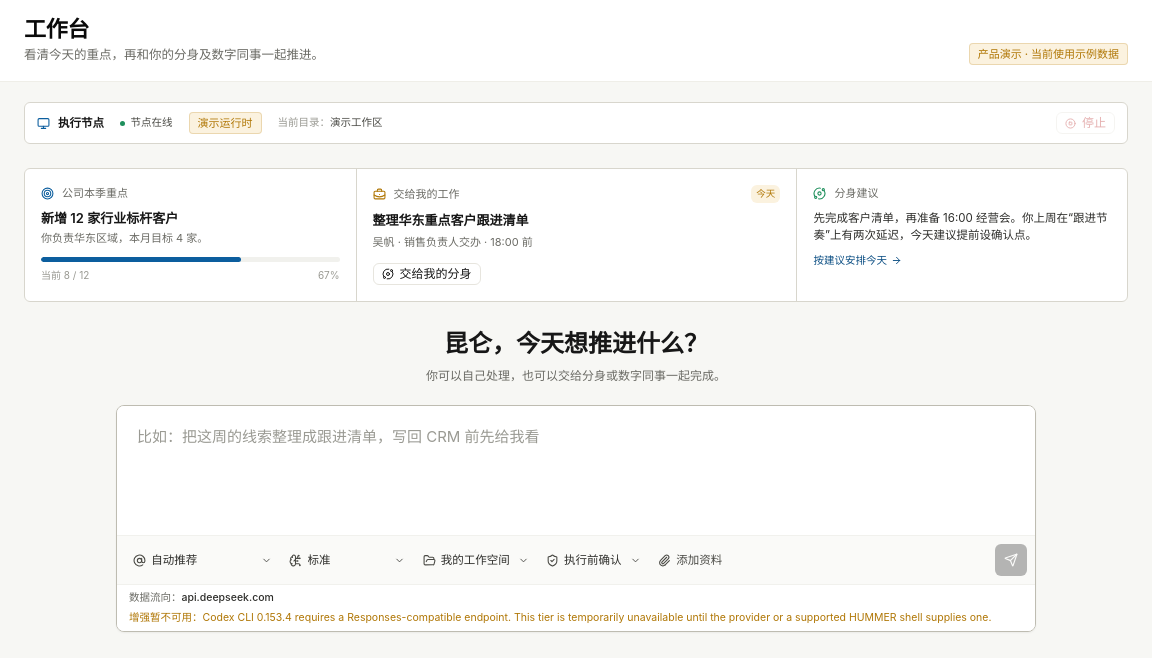
Test: WorkbenchPage V5 › marks an offline plan as demonstration output and never records a planning cost
Type "断网时起草一份合同审查计划" into the text box named "任务描述" at [576, 468], box [117, 406, 1035, 530]
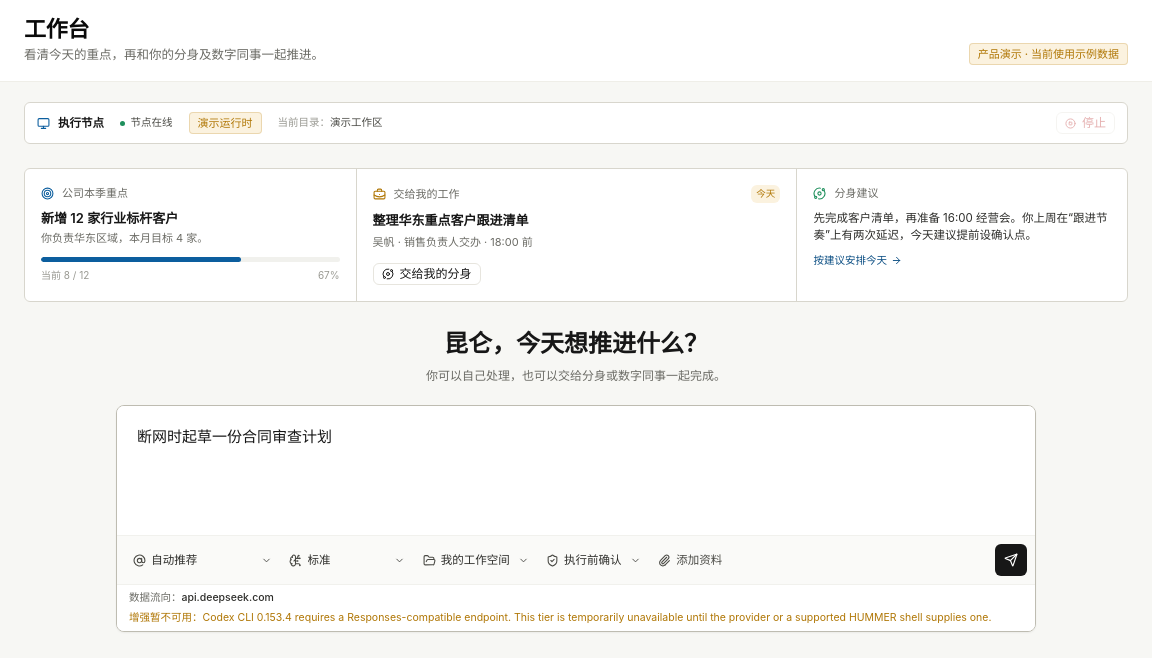
Press Enter in the text box named "任务描述", box [117, 406, 1035, 530]
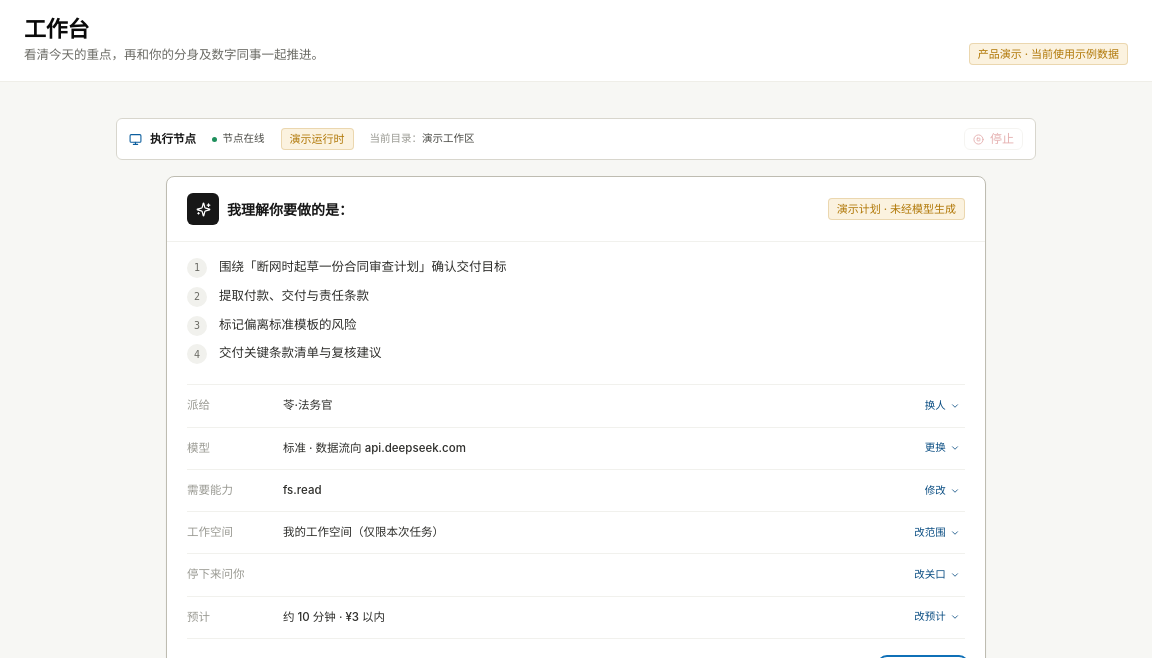
Expected: the text "演示计划 · 未经模型生成" is shown, [828, 198, 965, 220]
